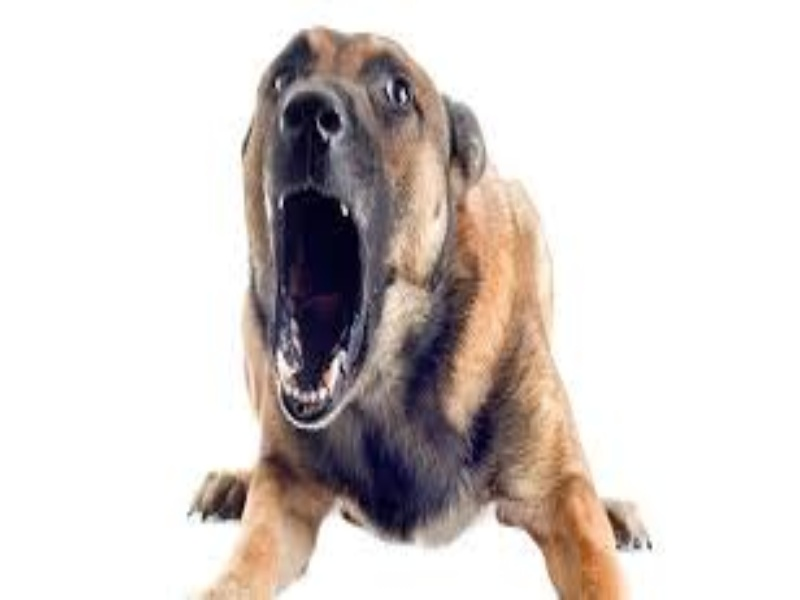dog: (187, 18, 657, 596)
